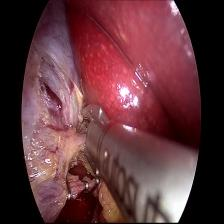Clipper: (71, 104, 115, 174)
